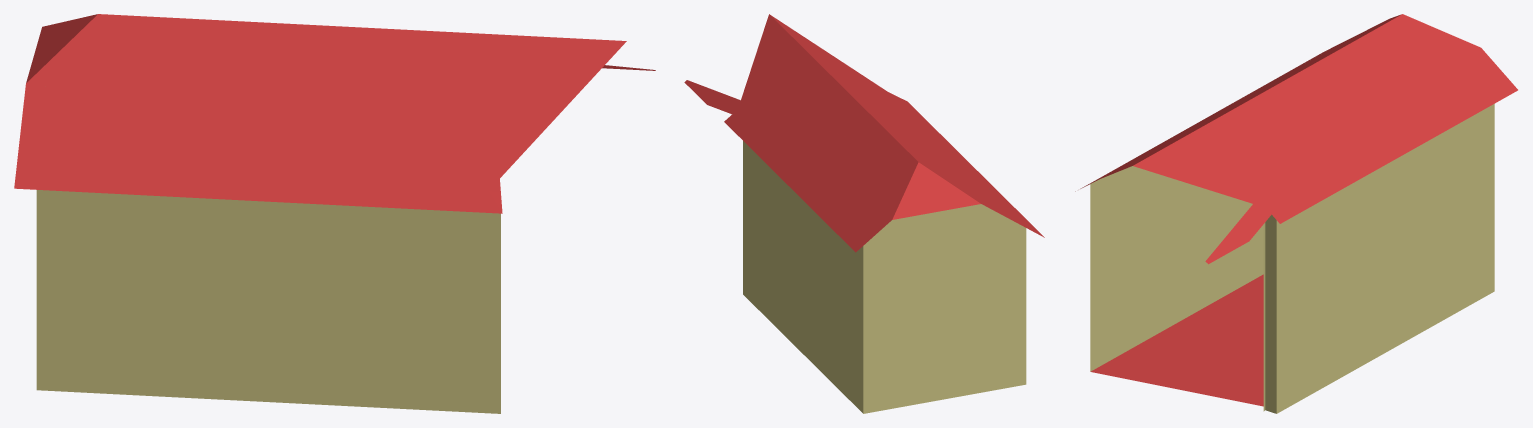
3 renders of one model, left to right at view 1: azimuth 30°, elevation 25°; view 2: azimuth 150°, elevation 25°; view 3: azimuth 270°, elevation 25°, orthographic. The views are drawn at different scales.
Size of the model in its own units: 24.42 by 19.42 by 12.94.
